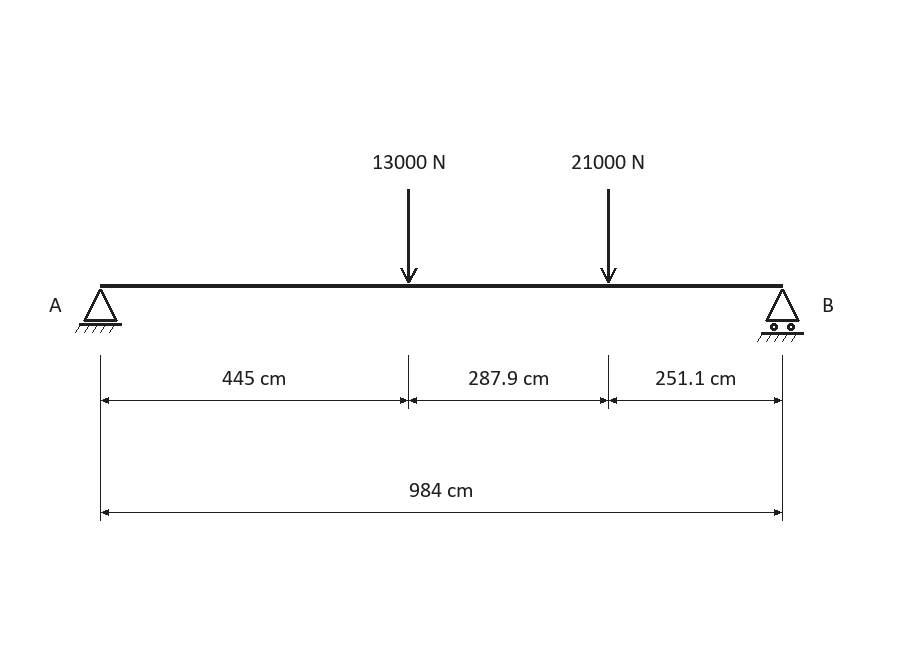pin_support: (75, 289, 122, 333)
point_load: (400, 189, 418, 283), (600, 189, 617, 283)
roller_support: (757, 289, 804, 342)
